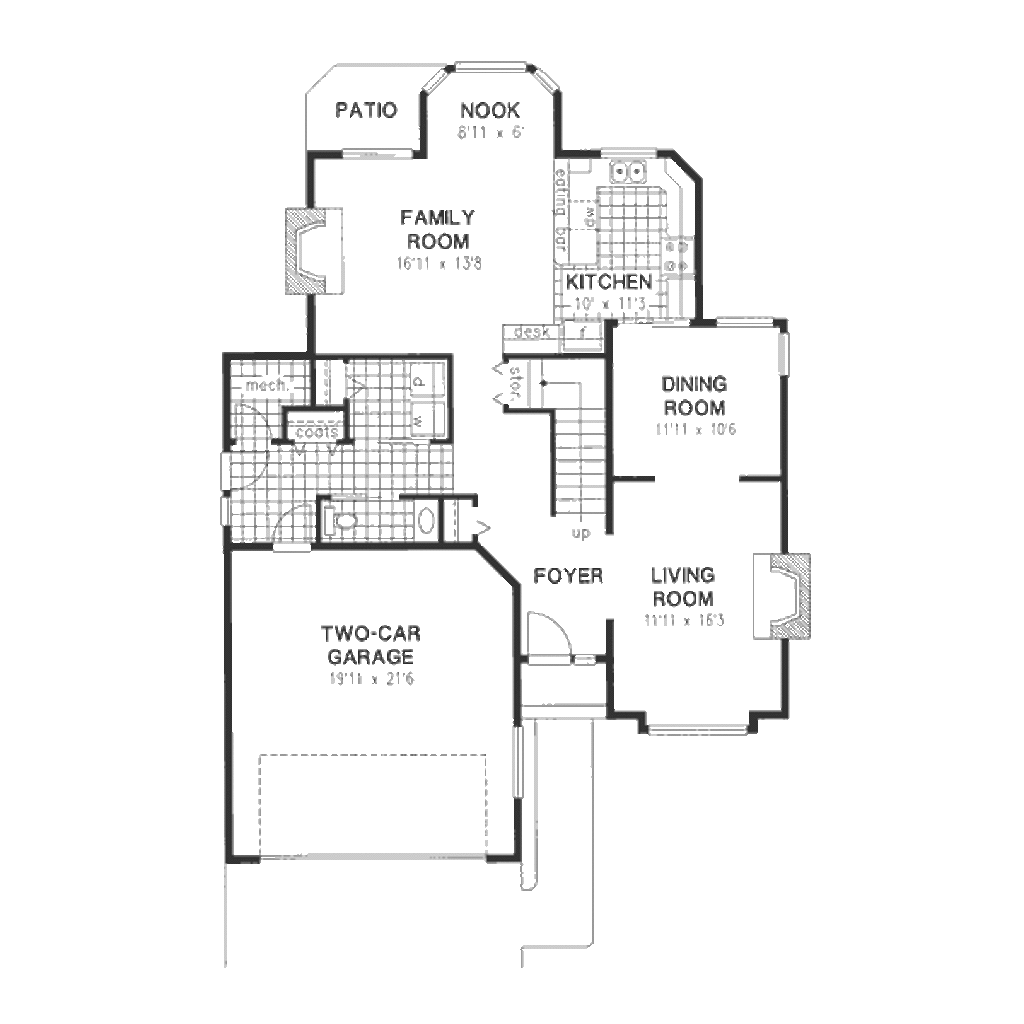door: (513, 598, 583, 674), (261, 491, 322, 557), (223, 442, 272, 494)
large_sink: (314, 496, 385, 553)
small_sink: (409, 489, 449, 549)
stairs: (502, 357, 622, 527)
twin_sink: (591, 140, 661, 196)
window: (418, 62, 561, 97), (334, 138, 433, 173), (501, 723, 544, 800), (769, 318, 812, 388), (641, 713, 763, 737), (722, 302, 782, 340)
